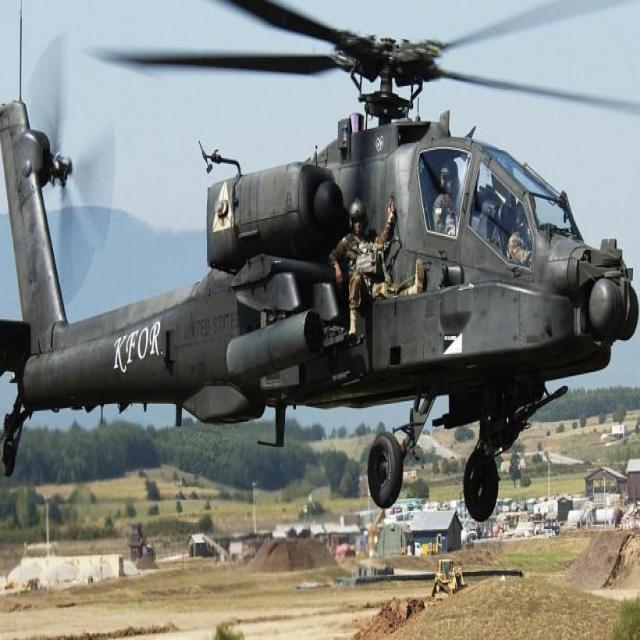MIL_HELO: (0, 0, 640, 524)
